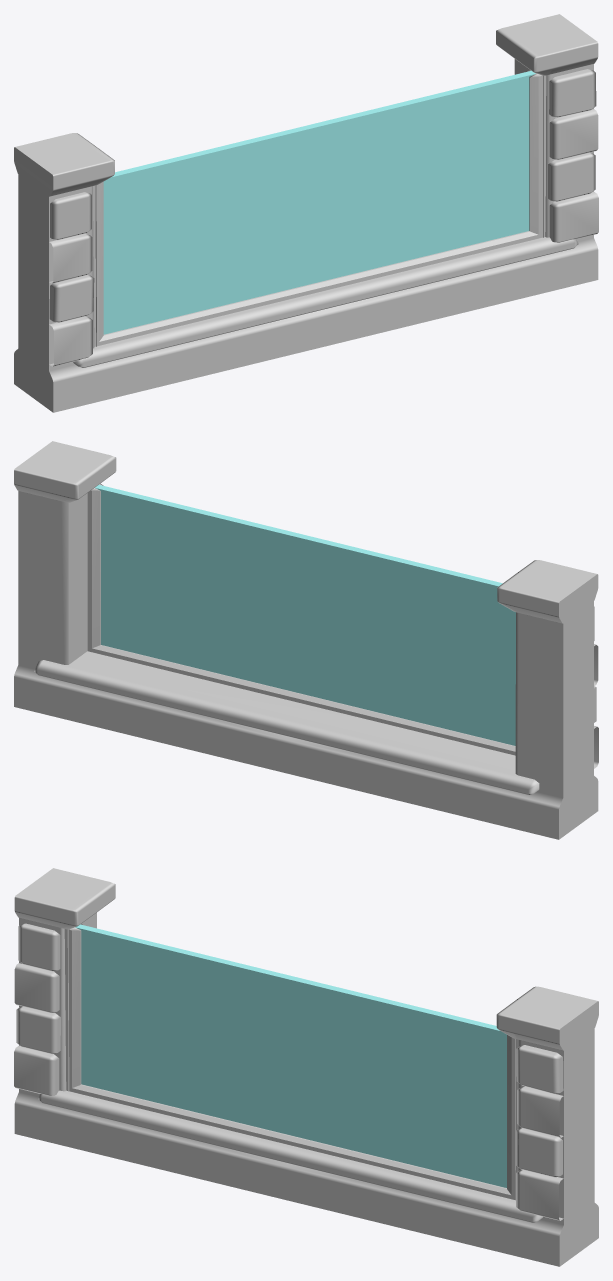
Rendered from wall_brick_window_02_x2.fbx.
3 views of the same model, one above another, from view 1: azimuth 30°, elevation 25°; view 2: azimuth 150°, elevation 25°; view 3: azimuth 330°, elevation 25° (orthographic).
Visible parts, largest first — view 1: wall_brick_window_02_x2, m_city_wall_window_02_glass, brick wall window 02 inside; view 2: m_city_wall_window_02_glass, brick wall window 02 inside, wall_brick_window_02_x2; view 3: wall_brick_window_02_x2, m_city_wall_window_02_glass.
Part boxes in pixels (x1,y1,x2,y2): wall_brick_window_02_x2: (14,14,598,412); m_city_wall_window_02_glass: (103,70,535,334); brick wall window 02 inside: (95,59,543,346); m_city_wall_window_02_glass: (95,485,515,745); brick wall window 02 inside: (14,491,563,839); wall_brick_window_02_x2: (14,441,598,839); wall_brick_window_02_x2: (14,868,598,1266); m_city_wall_window_02_glass: (75,924,506,1187).
Size of the model in its own units: 4.8 by 2 by 0.6573.
